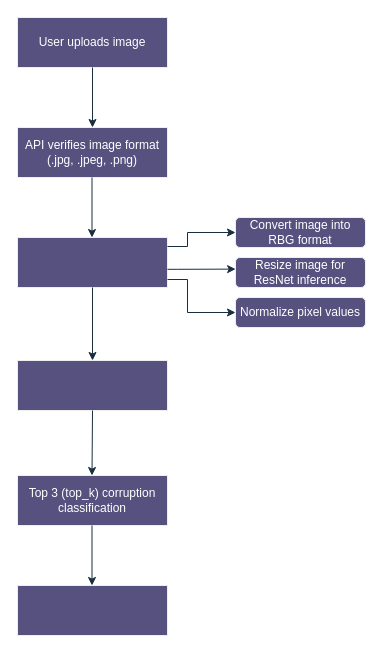
Image size: 383x653. Some labels were removed from this diagram. The centre of each missing label's shape, as x and y in pixels:
"API preprocesses image" belongs at pixel 92 262.
"Confidence score output" belongs at pixel 92 610.
"ResNet inference" belongs at pixel 92 385.
